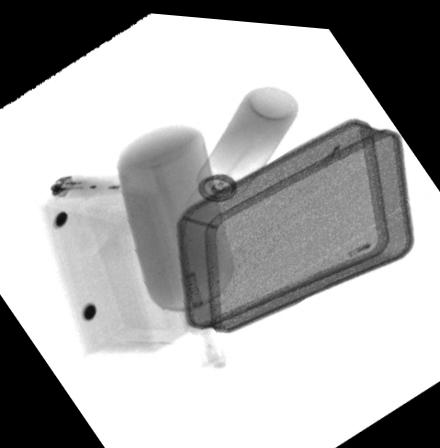Lighter: (46, 169, 138, 197)
Sprayer: (177, 80, 298, 226)
